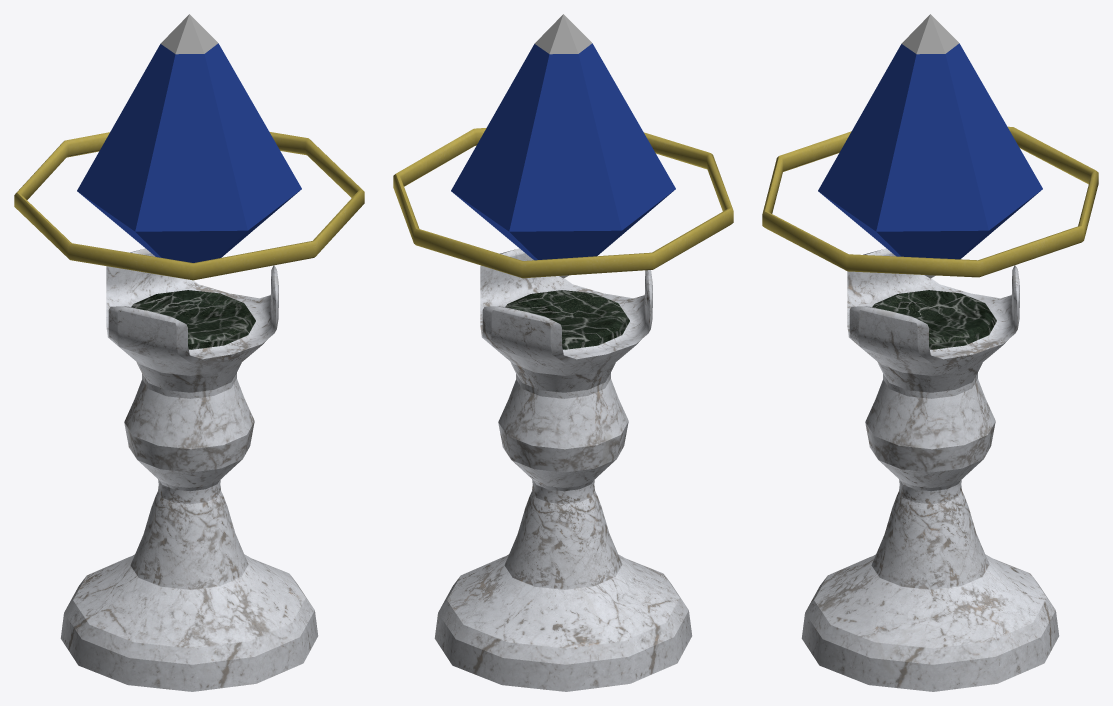
The model's file is ZA-Texture-LampPost.fbx.
3 renders of one model, left to right at view 1: azimuth 30°, elevation 25°; view 2: azimuth 150°, elevation 25°; view 3: azimuth 270°, elevation 25°, orthographic.
Visible parts, largest first — view 1: LampPost.002; view 2: LampPost.002; view 3: LampPost.002.
Boxes of the visible parts, x1,y1,x2,y2 form: LampPost.002: (14, 14, 364, 691); LampPost.002: (393, 14, 733, 691); LampPost.002: (762, 14, 1098, 691).
Bounding box in the file's own units: 91.33 × 187 × 91.33.
Materials: 6 (6 with a texture image).
